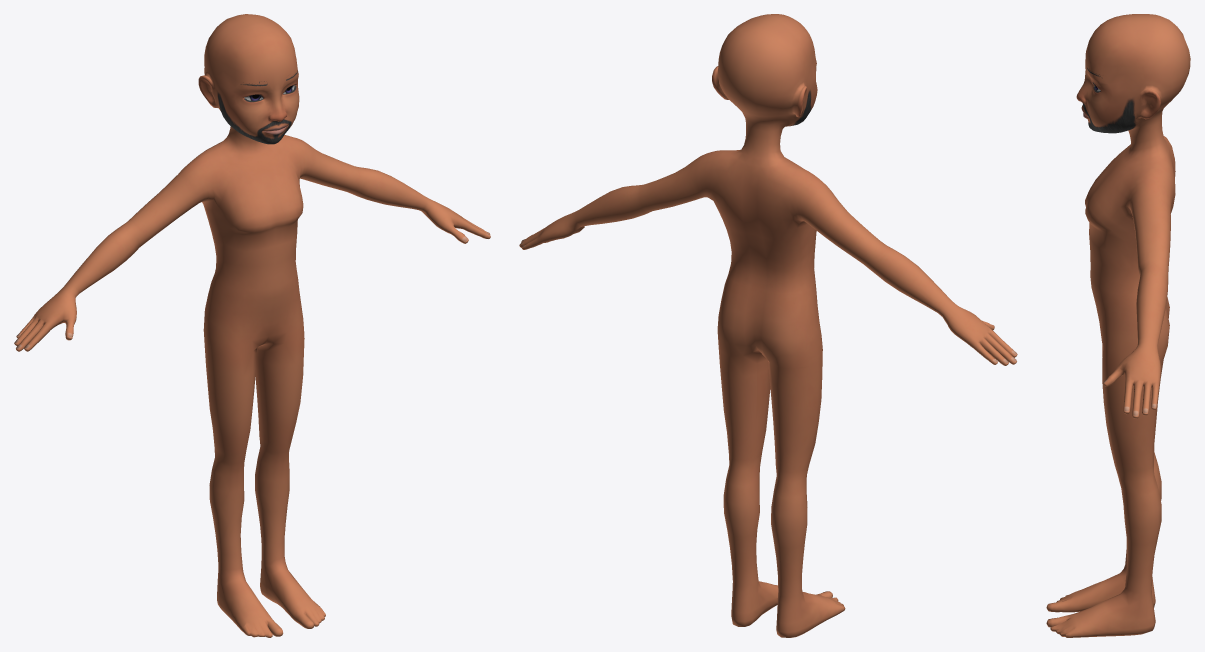
Rendered from frame_0059.glb.
The picture shows the model from 3 angles, left to right: view 1: azimuth 30°, elevation 25°; view 2: azimuth 150°, elevation 25°; view 3: azimuth 270°, elevation 25°; orthographic projection. The views are drawn at different scales.
Visible parts, largest first — view 1: frame_0059_head_geo; view 2: frame_0059_head_geo; view 3: frame_0059_head_geo.
Part boxes in pixels (x1,y1,x2,y2): frame_0059_head_geo: (14, 14, 490, 637); frame_0059_head_geo: (519, 14, 1017, 637); frame_0059_head_geo: (1046, 14, 1190, 637).
Size of the model in its own units: 1.28 by 1.5 by 0.3253.
Materials: 3 (3 with a texture image).
